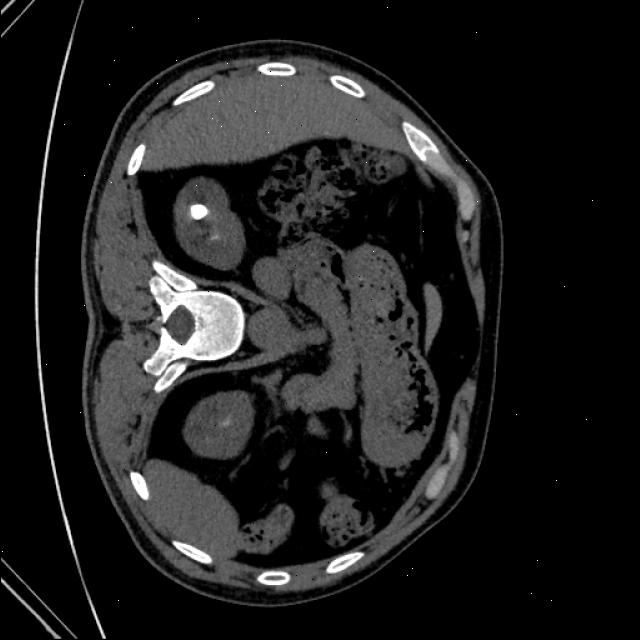kidneystone: (189, 204, 208, 220)
